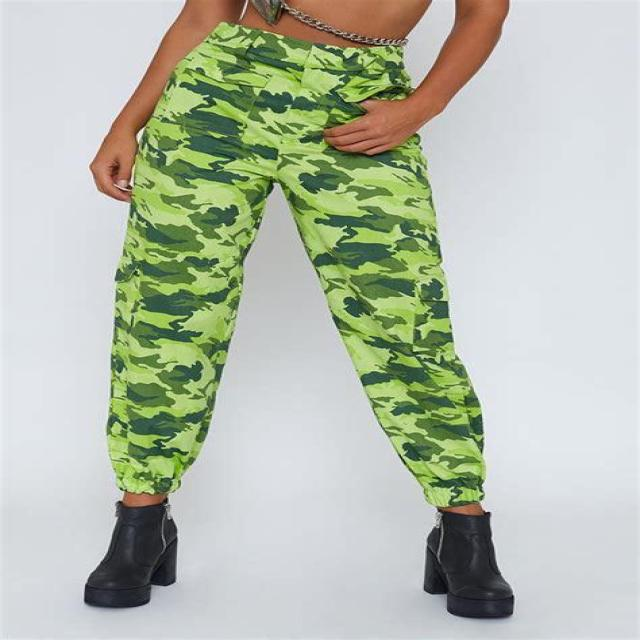pants: (105, 19, 485, 509)
